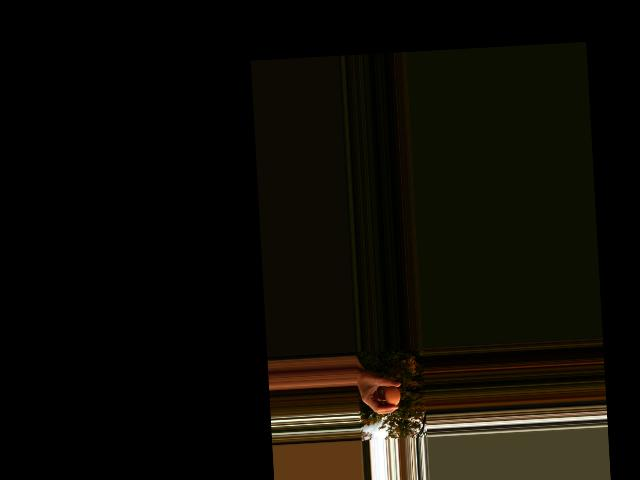egg: (385, 385, 401, 406)
